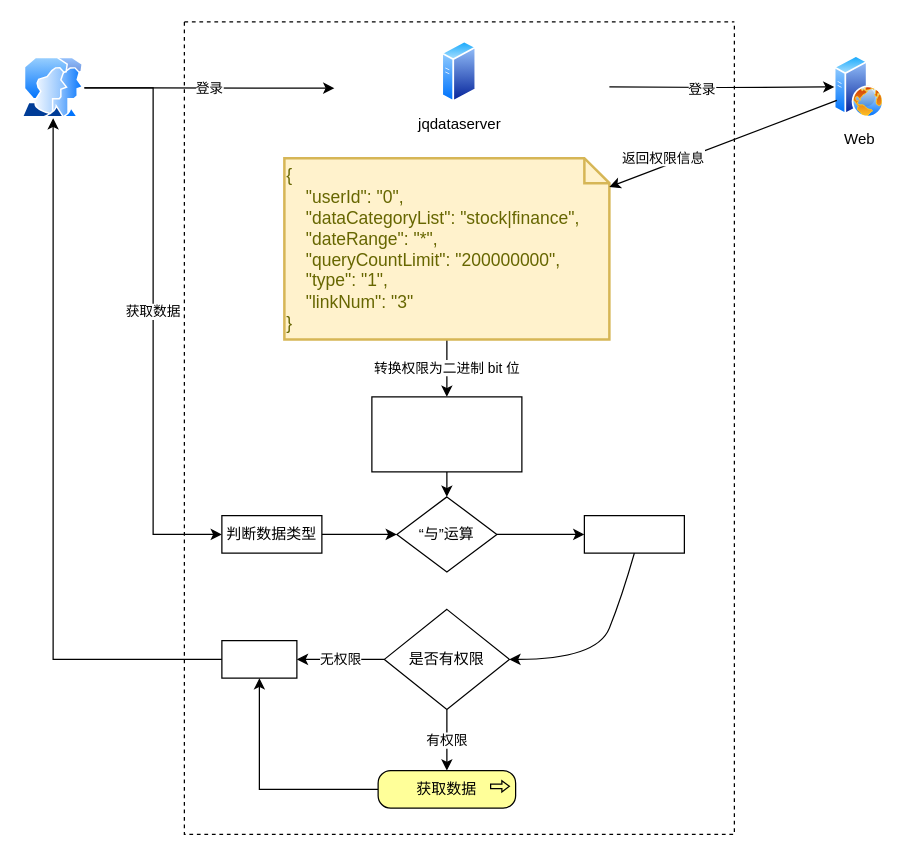
The diagram is 905 pixels wide and 856 high, and some of its shapes have lost their labels. The box of each missing label's shape, as (x1, y1, x2, y2) in pixels:
stock: 000001 finance:000010 ......: (371, 396, 522, 472)
判断权限: (583, 514, 684, 553)
返回值: (221, 639, 297, 678)
